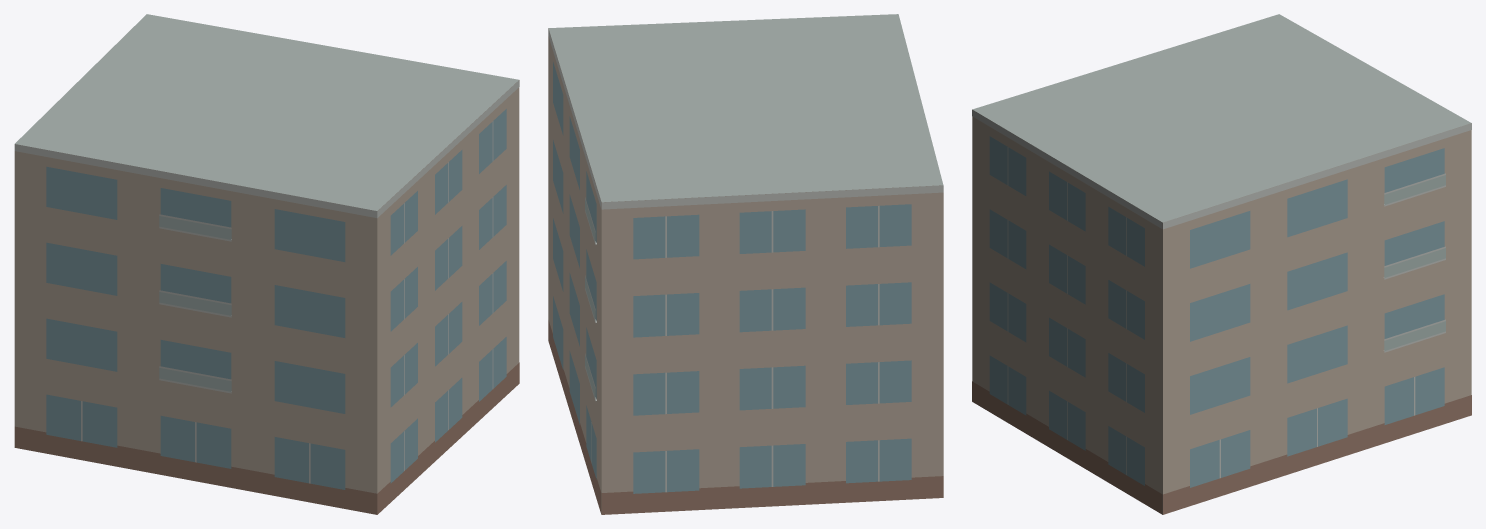
File: survey-upis-32583218.glb
3 views of the same model, side by side, from view 1: azimuth 30°, elevation 25°; view 2: azimuth 150°, elevation 25°; view 3: azimuth 270°, elevation 25° (orthographic). The views are drawn at different scales.
Visible parts, largest first — view 1: survey-upis-32583218.tmp; view 2: survey-upis-32583218.tmp; view 3: survey-upis-32583218.tmp.
Part boxes in pixels (x1,y1,x2,y2): survey-upis-32583218.tmp: [14, 14, 519, 514]; survey-upis-32583218.tmp: [548, 14, 943, 514]; survey-upis-32583218.tmp: [972, 14, 1471, 514].
Size of the model in its own units: 15.93 by 10.4 by 16.12.
